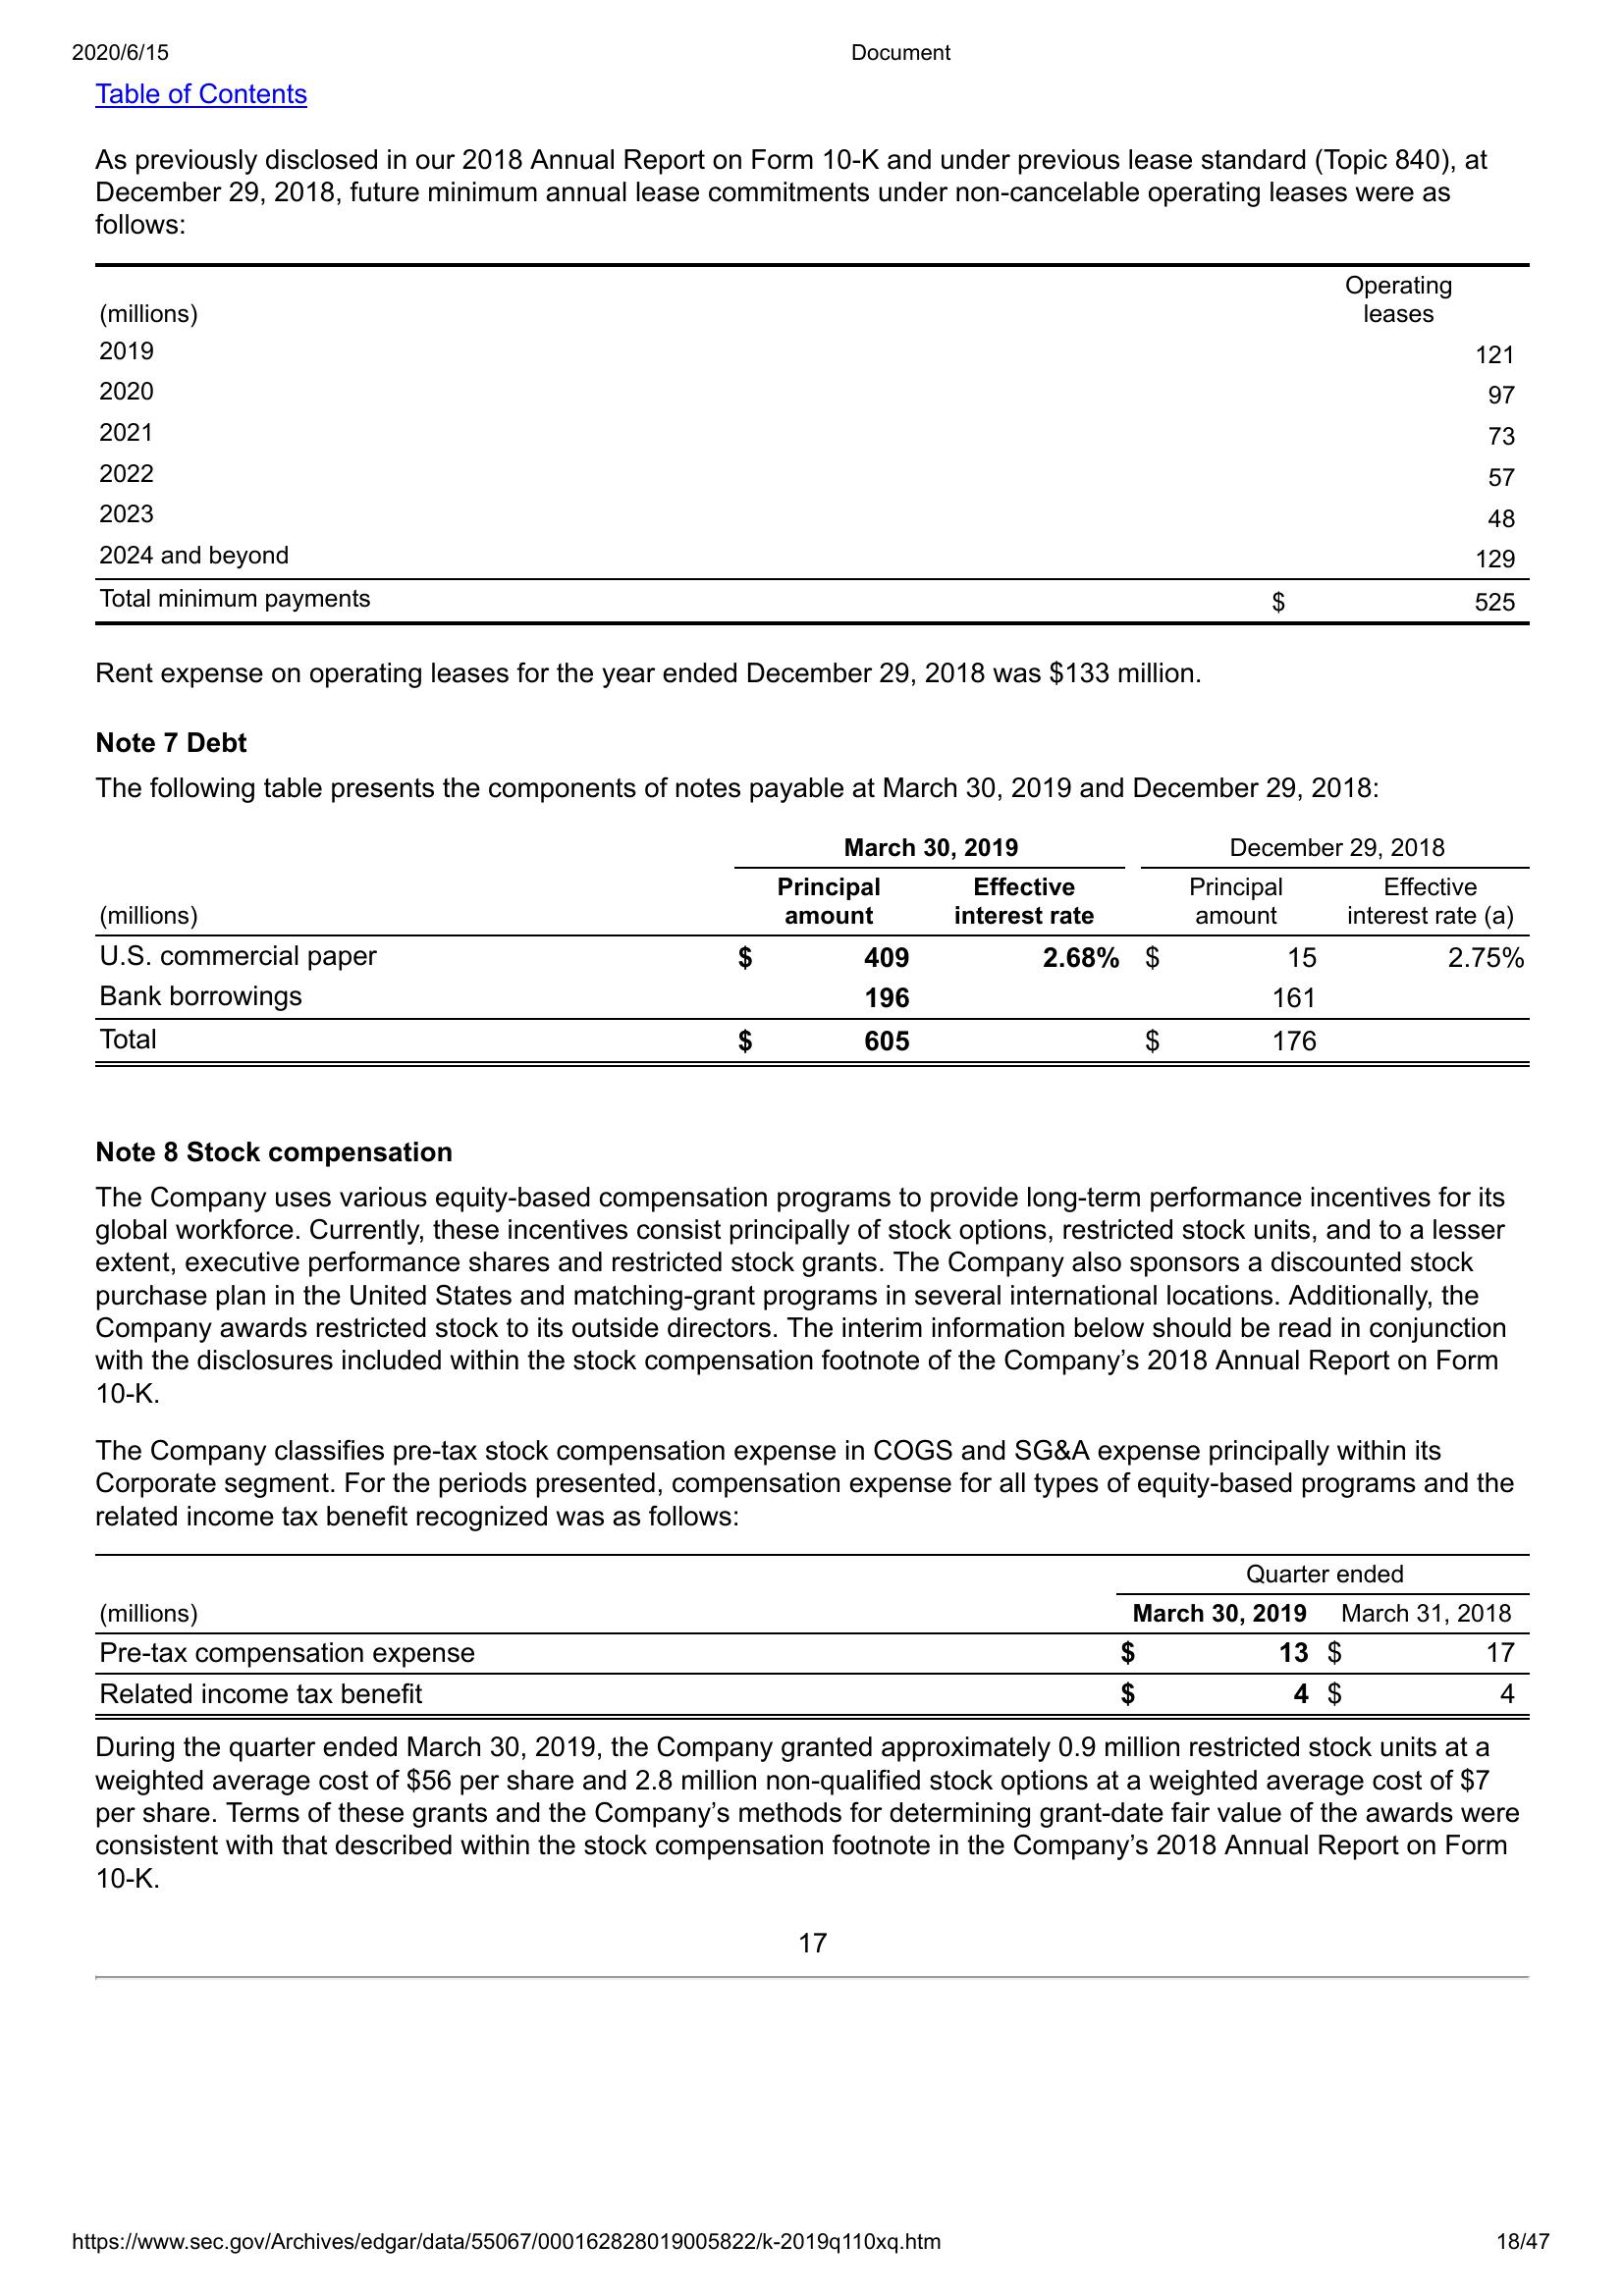table: (90, 253, 1537, 634), (86, 827, 1544, 1074), (86, 1545, 1542, 1731)
